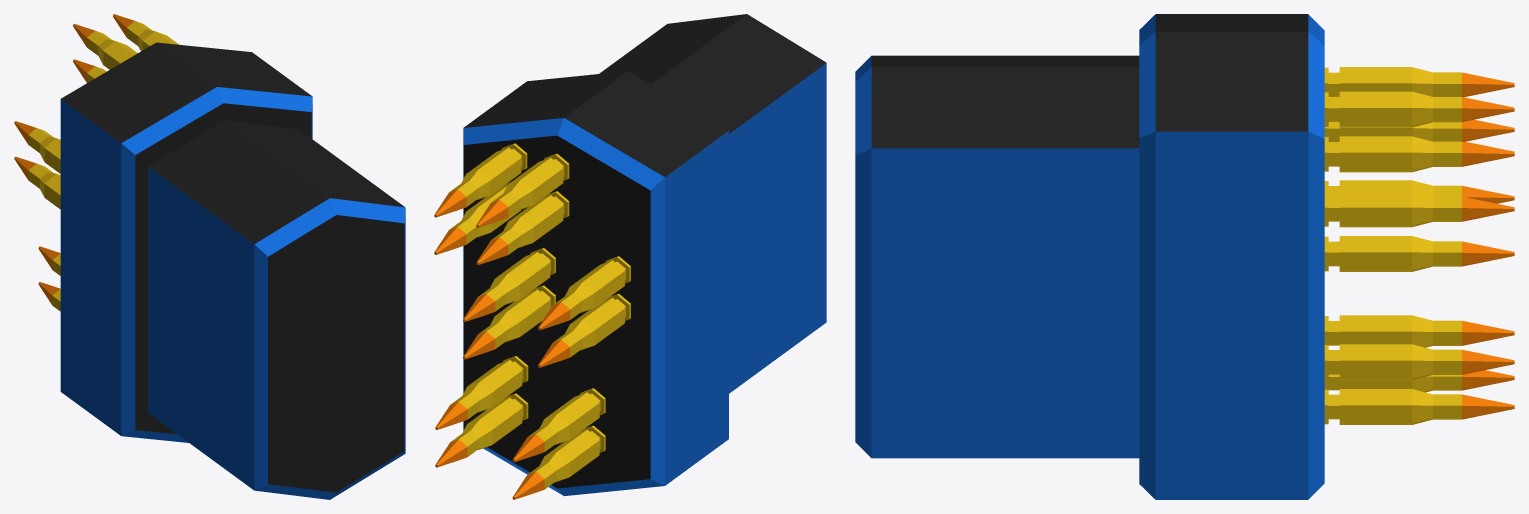
The model's file is prop_sniperammo_box.glb.
3 renders of one model, left to right at view 1: azimuth 30°, elevation 25°; view 2: azimuth 150°, elevation 25°; view 3: azimuth 270°, elevation 25°, orthographic. The views are drawn at different scales.
Parts seen in each view (by area): view 1: BlackSniper_AmmoBox, BlueSniper_AmmoBox, BlueScreenSniper_AmmoBox, YellowBullet_Sniper, OrangeBullet_Sniper; view 2: BlackSniper_AmmoBox, BlueSniper_AmmoBox, YellowBullet_Sniper, BlueScreenSniper_AmmoBox, OrangeBullet_Sniper; view 3: BlueSniper_AmmoBox, BlackSniper_AmmoBox, YellowBullet_Sniper, BlueScreenSniper_AmmoBox, OrangeBullet_Sniper.
Boxes of the visible parts, <box> form: BlackSniper_AmmoBox: <box>61,42,404,492</box>; BlueSniper_AmmoBox: <box>60,99,254,490</box>; BlueScreenSniper_AmmoBox: <box>121,87,405,499</box>; YellowBullet_Sniper: <box>28,21,178,311</box>; OrangeBullet_Sniper: <box>14,14,134,304</box>; BlackSniper_AmmoBox: <box>463,14,826,488</box>; BlueSniper_AmmoBox: <box>665,63,826,485</box>; YellowBullet_Sniper: <box>449,143,630,489</box>; BlueScreenSniper_AmmoBox: <box>463,118,664,496</box>; OrangeBullet_Sniper: <box>434,189,570,499</box>; BlueSniper_AmmoBox: <box>871,131,1308,499</box>; BlackSniper_AmmoBox: <box>871,14,1308,148</box>; YellowBullet_Sniper: <box>1324,67,1461,424</box>; BlueScreenSniper_AmmoBox: <box>855,14,1324,499</box>; OrangeBullet_Sniper: <box>1462,72,1514,419</box>.
Bounding box in the file's own units: 1.13 × 2.03 × 2.69.
